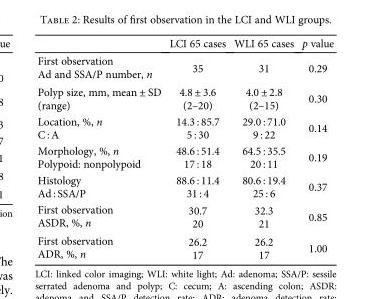table: (36, 36, 333, 260)
table column: (36, 36, 164, 260), (229, 36, 297, 260), (164, 36, 229, 260), (297, 36, 333, 260)
table column header: (36, 36, 333, 51)
table row: (36, 81, 333, 112), (36, 200, 333, 231), (36, 51, 333, 81), (36, 112, 333, 142), (36, 142, 333, 171), (36, 171, 333, 200), (36, 231, 333, 260), (36, 36, 333, 51)
